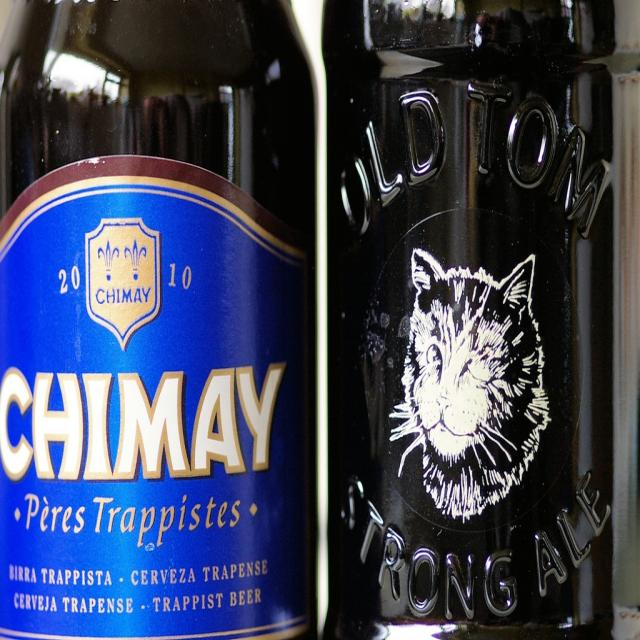chimay: (2, 159, 315, 640)
